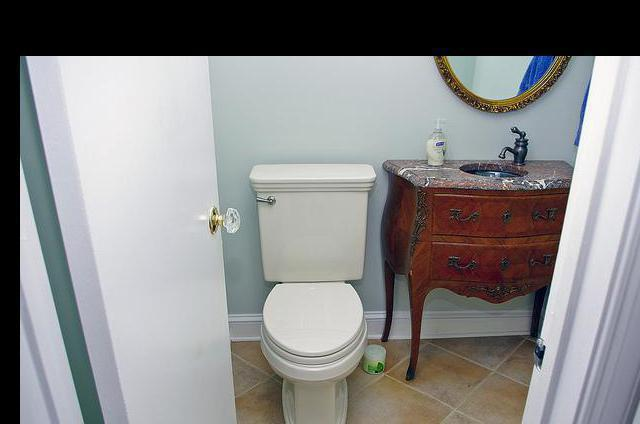Lavamanos: (456, 125, 539, 184)
Sanitario: (245, 165, 378, 424)
